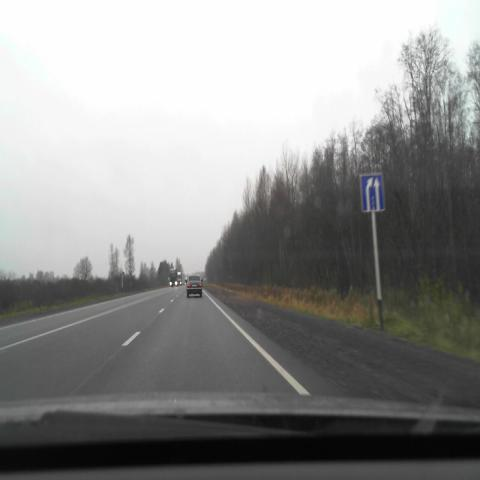5_15_5: (360, 173, 386, 213)
